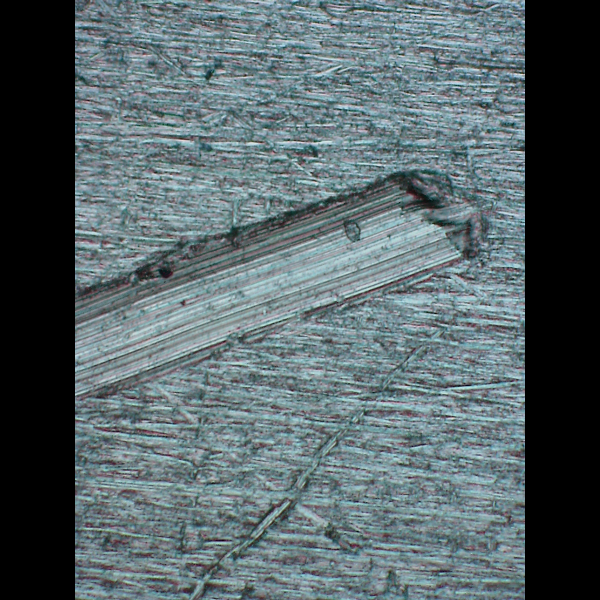d: (74, 160, 502, 408)
